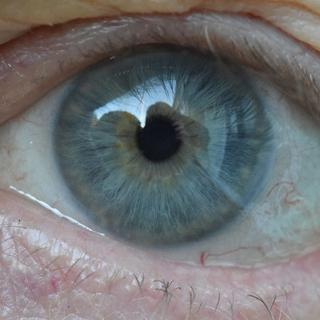pupil: (135, 115, 182, 161)
